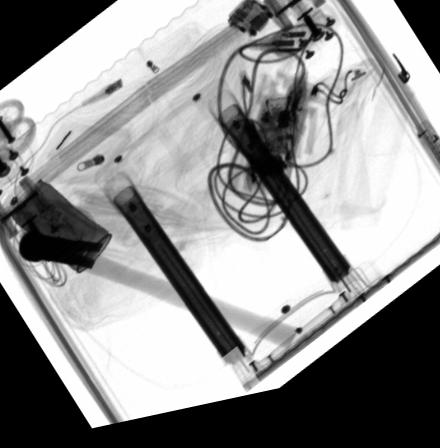Hammer: (18, 231, 300, 361)
